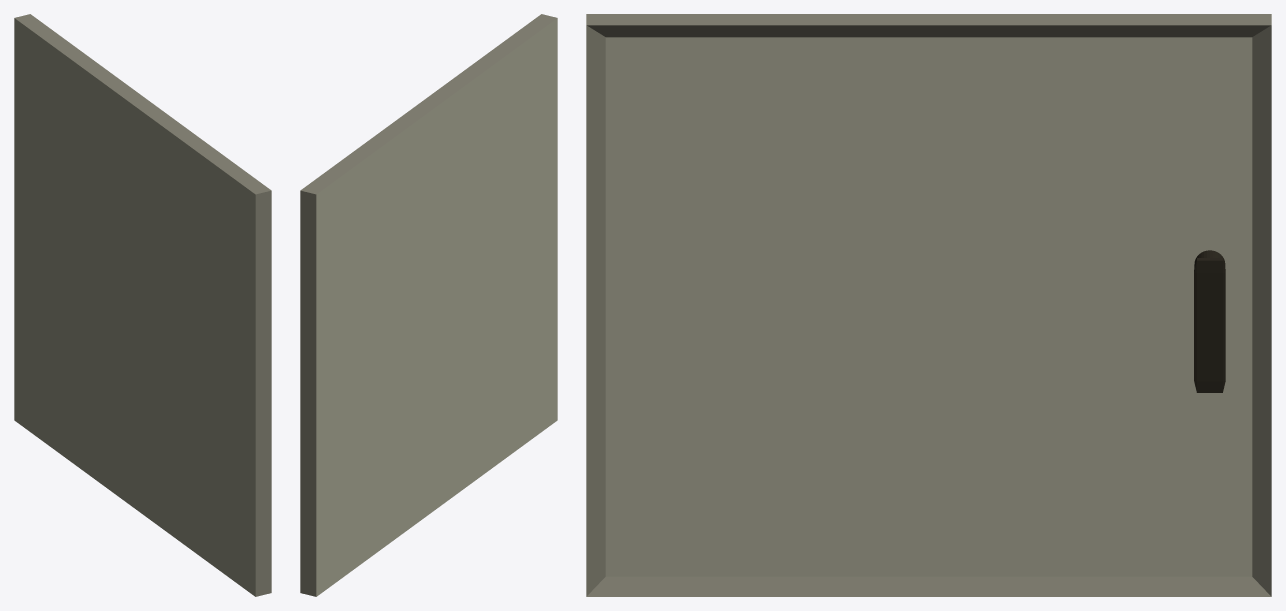
File: Open1DoorCounter(Door).fbx
3 renders of one model, left to right at view 1: azimuth 30°, elevation 25°; view 2: azimuth 150°, elevation 25°; view 3: azimuth 270°, elevation 25°, orthographic. The views are drawn at different scales.
Parts seen in each view (by area): view 1: Door; view 2: Door; view 3: Door.
Boxes of the visible parts, <box> form: Door: <box>14,14,271,596</box>; Door: <box>300,14,557,596</box>; Door: <box>586,14,1271,596</box>.
Bounding box in the file's own units: 484 × 37.76 × 446.
